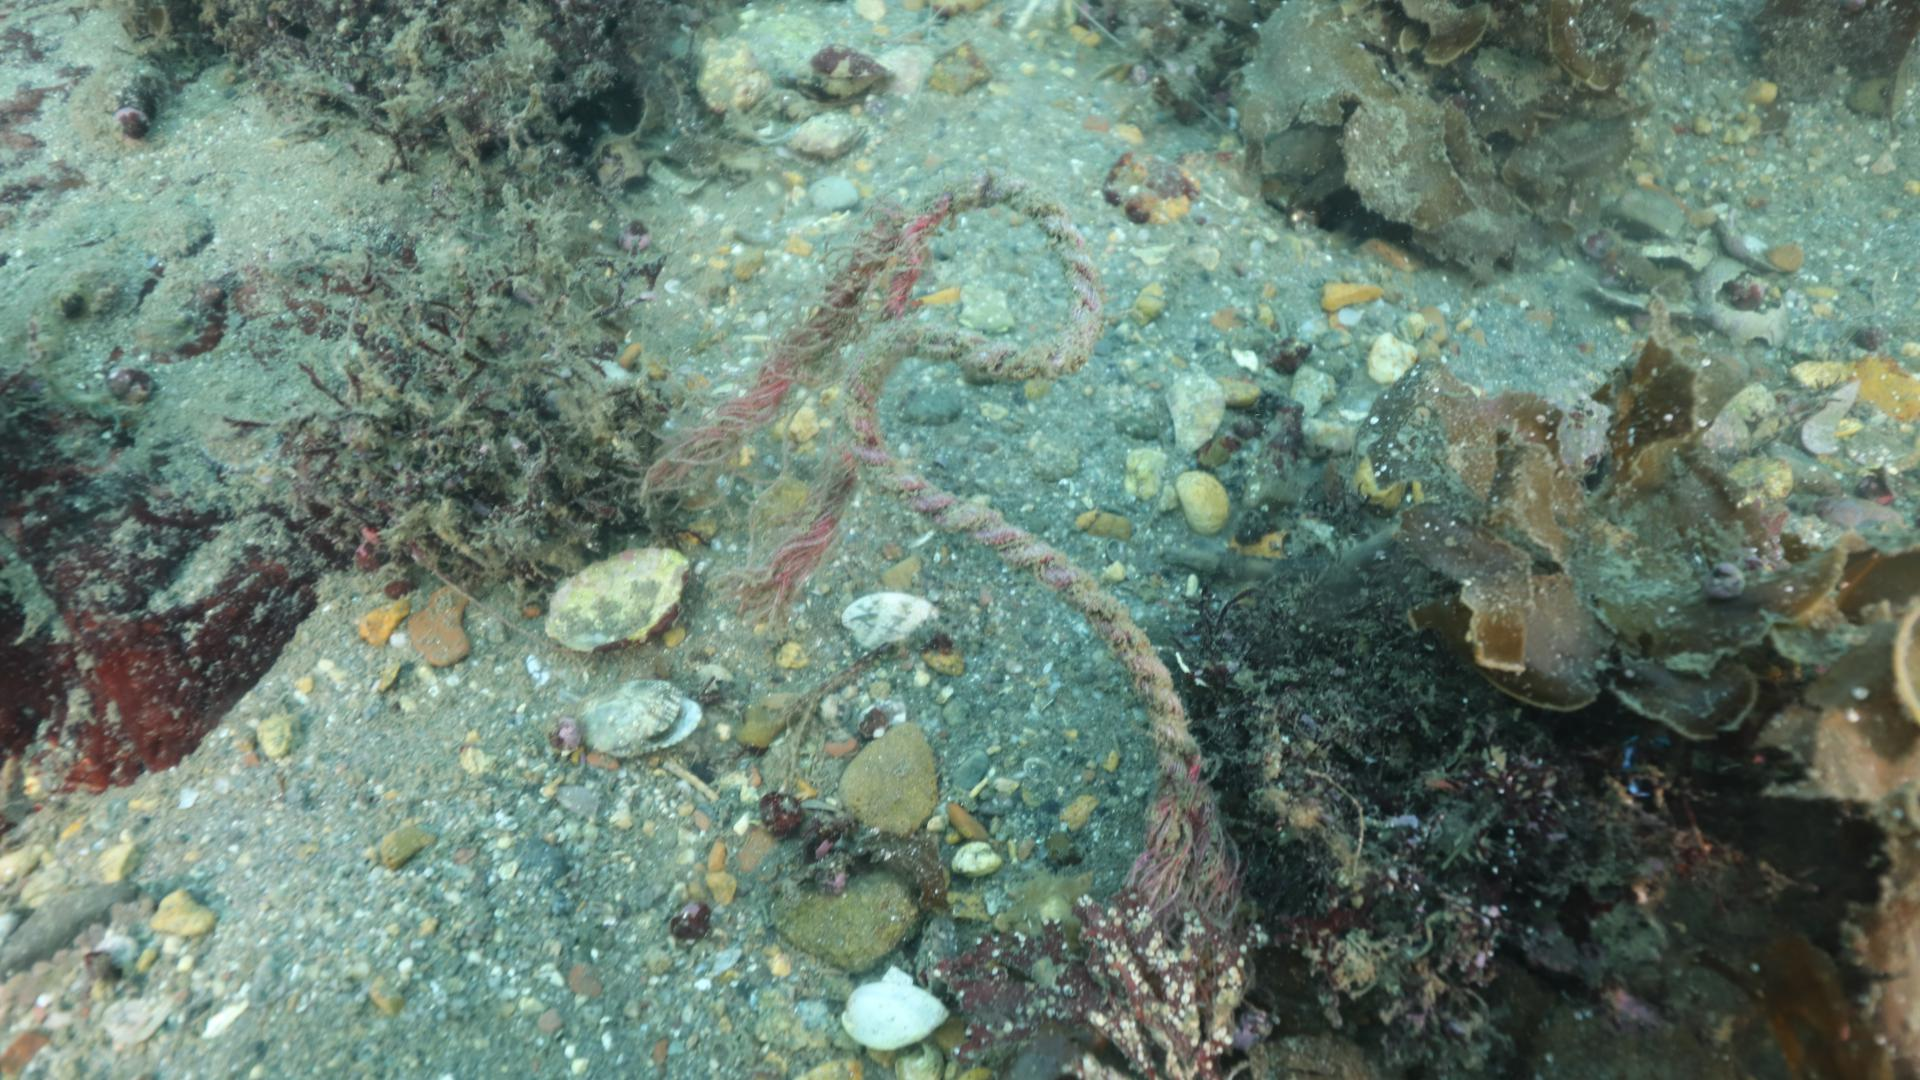rope: (837, 171, 1204, 775)
